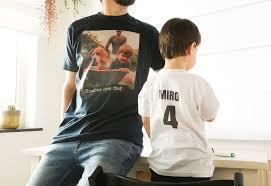Tshirt: (50, 11, 168, 143), (134, 66, 224, 178)
